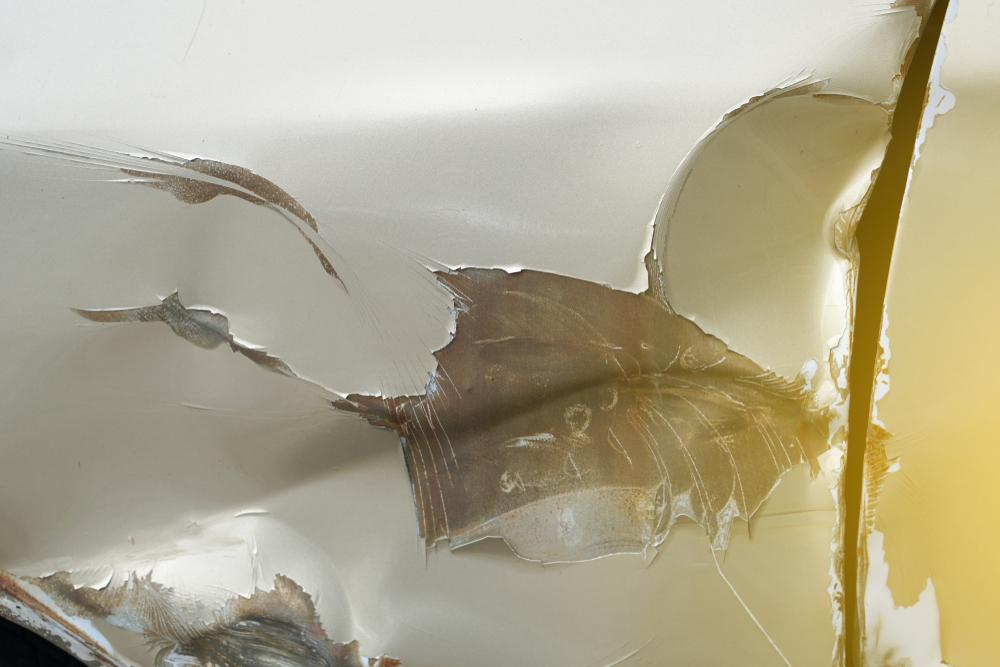dent: (0, 290, 418, 664), (658, 86, 894, 423)
scratch: (352, 220, 850, 577), (92, 134, 368, 298)
